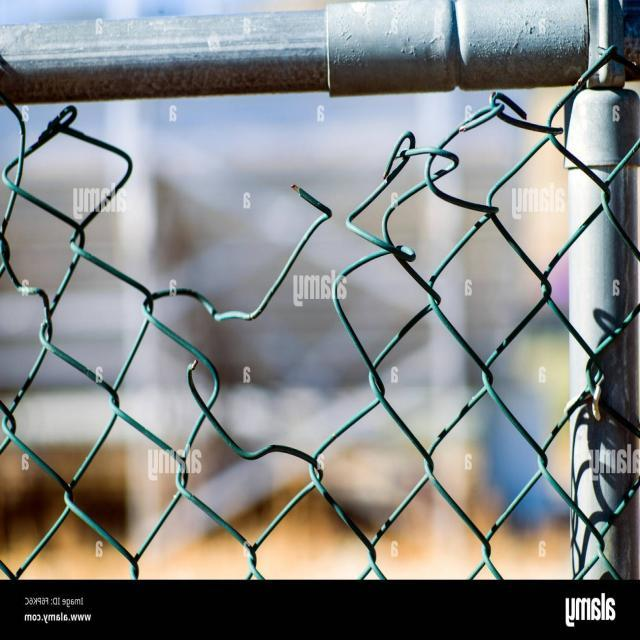fence line: (59, 105, 476, 427)
